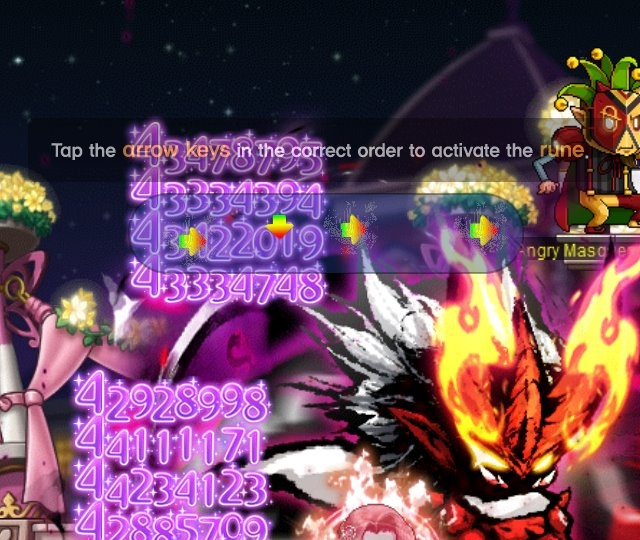down: (260, 209, 302, 247)
right: (461, 208, 505, 254), (170, 222, 215, 262), (335, 208, 374, 248)
